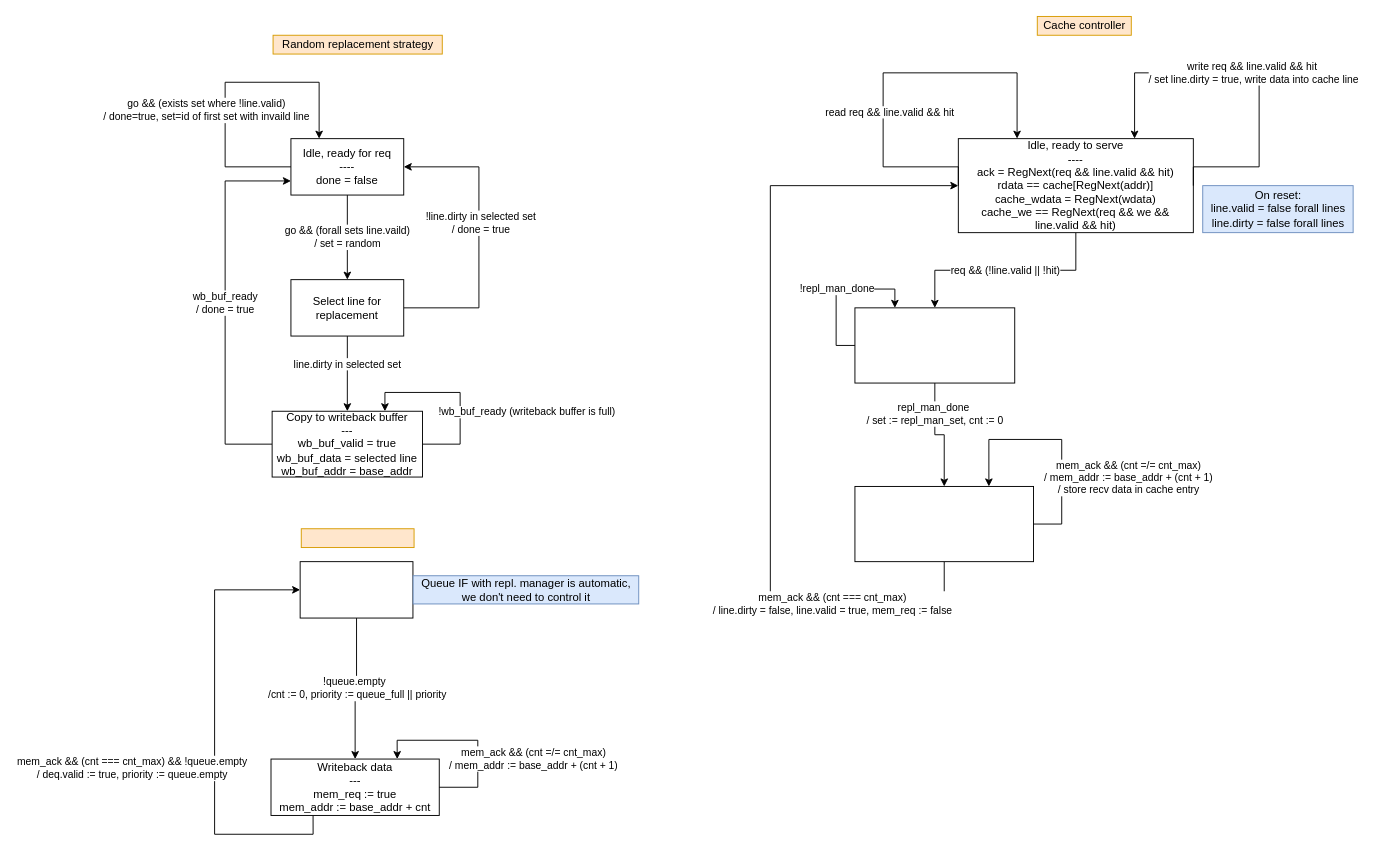
Some shapes in this 1374 by 858 pixel diagram are drawn without their labels. Here are the shapes that lost their labels. From the top down, the box of each, then its label:
(854, 307, 1015, 383): Ask repl. manager for set to load into --- repl_man_tag = tag repl_man_go = true
(300, 528, 414, 548): Writeback controller
(854, 486, 1034, 562): Load data into cache --- mem_req := true mem_addr := base_addr + cnt
(299, 561, 413, 618): Idle
